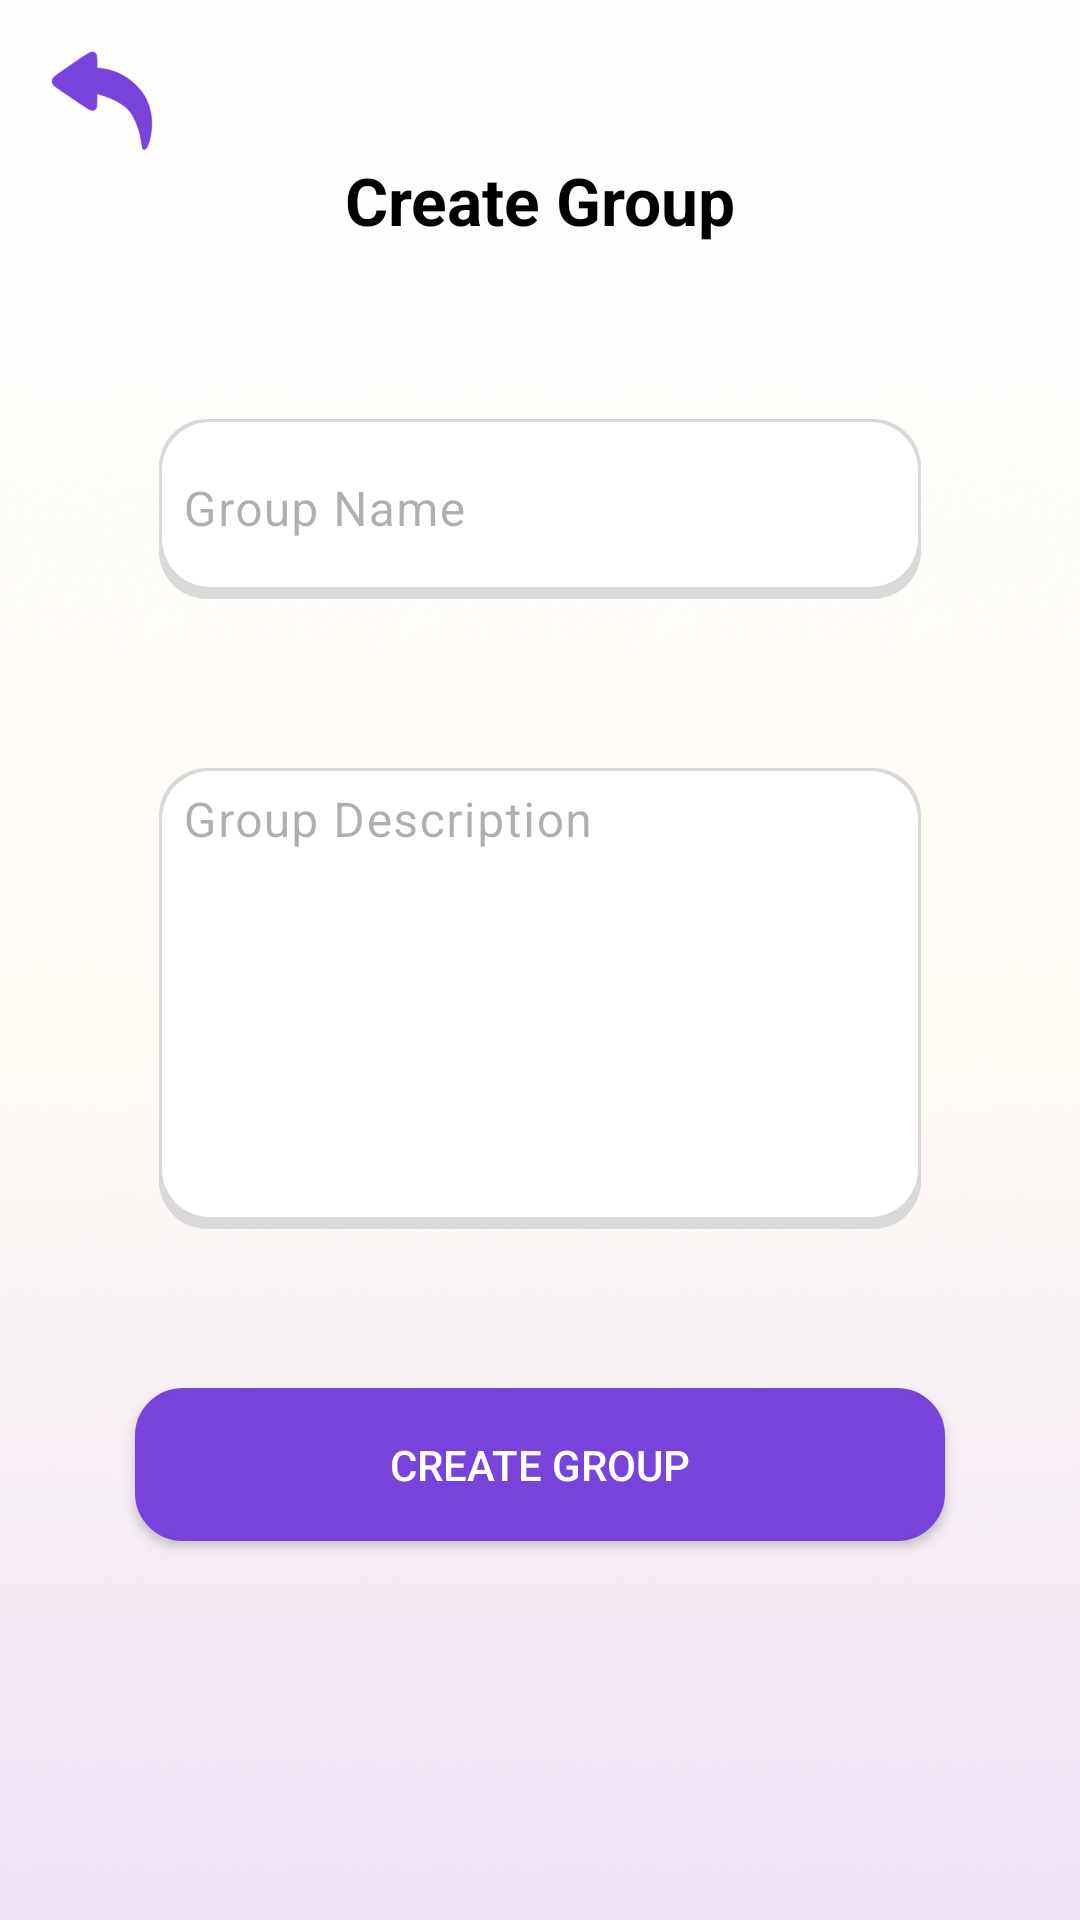

Locate icon controls on the screen. Image size 1080px x 1920px, boxes as bbox=[x1, y1, x2, y2].
back: bbox=[51, 51, 153, 150]
